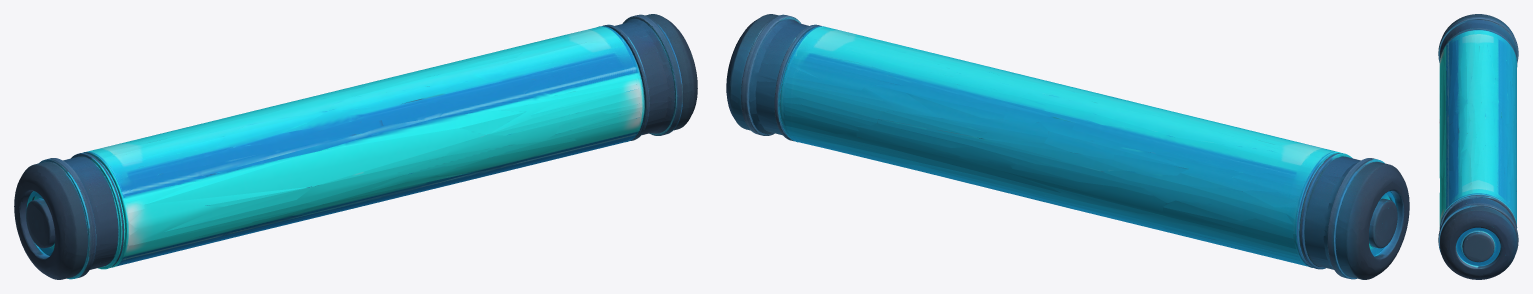
Rendered from cyan_laser_rod_meshy_raw.glb.
3 views of the same model, side by side, from view 1: azimuth 30°, elevation 25°; view 2: azimuth 150°, elevation 25°; view 3: azimuth 270°, elevation 25° (orthographic). The views are drawn at different scales.
Size of the model in its own units: 1.9 by 0.3174 by 0.3182.
Materials: 1 (1 with a texture image).
